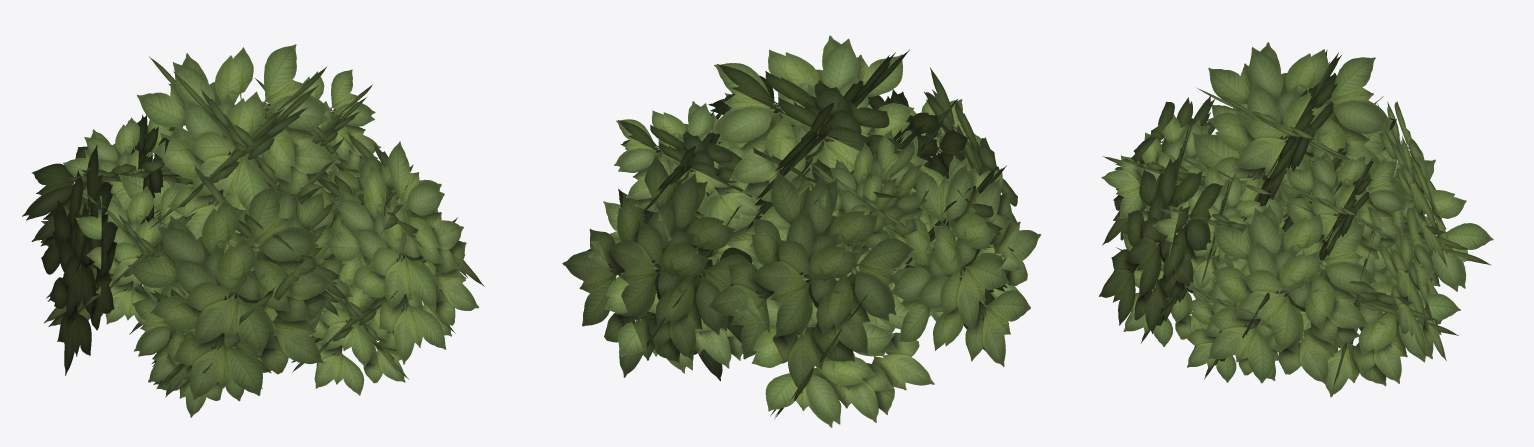
Rendered from bush.dae.
3 renders of one model, left to right at view 1: azimuth 30°, elevation 25°; view 2: azimuth 150°, elevation 25°; view 3: azimuth 270°, elevation 25°, orthographic. The views are drawn at different scales.
Parts seen in each view (by area): view 1: polySurface101, polySurface102; view 2: polySurface101, polySurface102; view 3: polySurface101, polySurface102.
Boxes of the visible parts, x1,y1,x2,y2 form: polySurface101: (22, 44, 484, 417); polySurface102: (41, 93, 481, 414); polySurface101: (562, 35, 1041, 427); polySurface102: (564, 55, 1038, 390); polySurface101: (1099, 42, 1493, 397); polySurface102: (1100, 51, 1451, 396).
Bounding box in the file's own units: 1.38 × 1.07 × 1.42.
